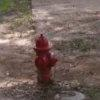Hydrant: (26, 24, 74, 89)
